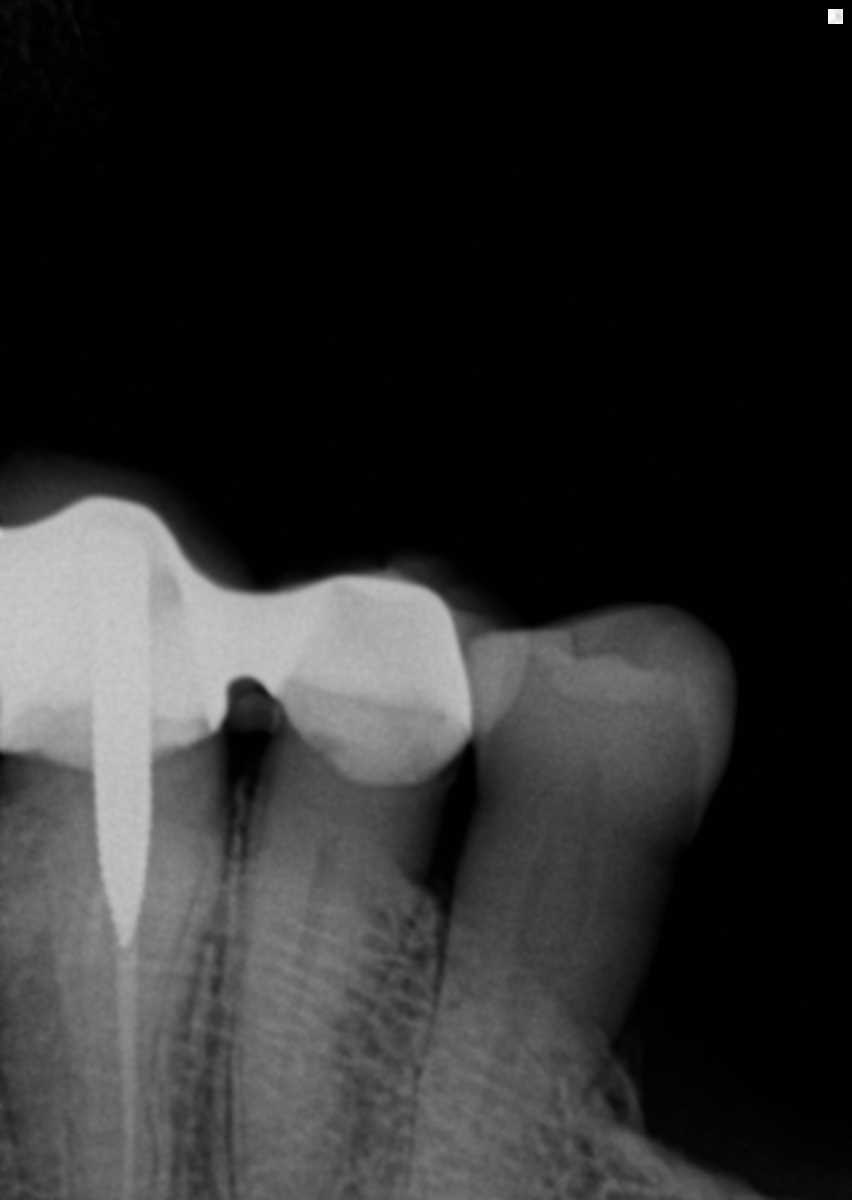Main Canal: (275, 836, 355, 1200), (464, 958, 561, 1198)
Main Root: (0, 748, 221, 1199), (226, 812, 423, 1200), (409, 910, 625, 1200)
Root Canal Filling: (112, 956, 144, 1192)
